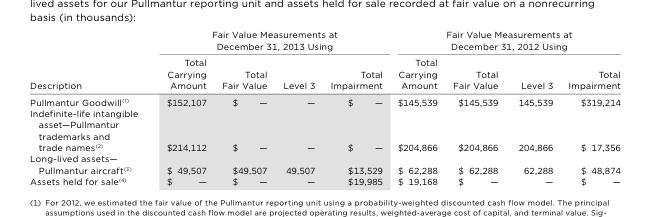table: (29, 28, 619, 186)
table column: (29, 28, 151, 186), (321, 28, 389, 186), (208, 28, 274, 186), (441, 28, 507, 186), (559, 28, 619, 186), (151, 28, 208, 186), (389, 28, 441, 186), (507, 28, 559, 186), (274, 28, 321, 186)
table column header: (29, 28, 619, 92)
table row: (29, 106, 619, 152), (29, 59, 619, 92), (29, 28, 619, 59), (29, 152, 619, 175), (29, 92, 619, 106), (29, 175, 619, 186)
table spanning cell: (29, 28, 151, 92), (208, 28, 389, 59), (441, 28, 619, 59), (151, 28, 208, 92), (389, 28, 441, 92)
